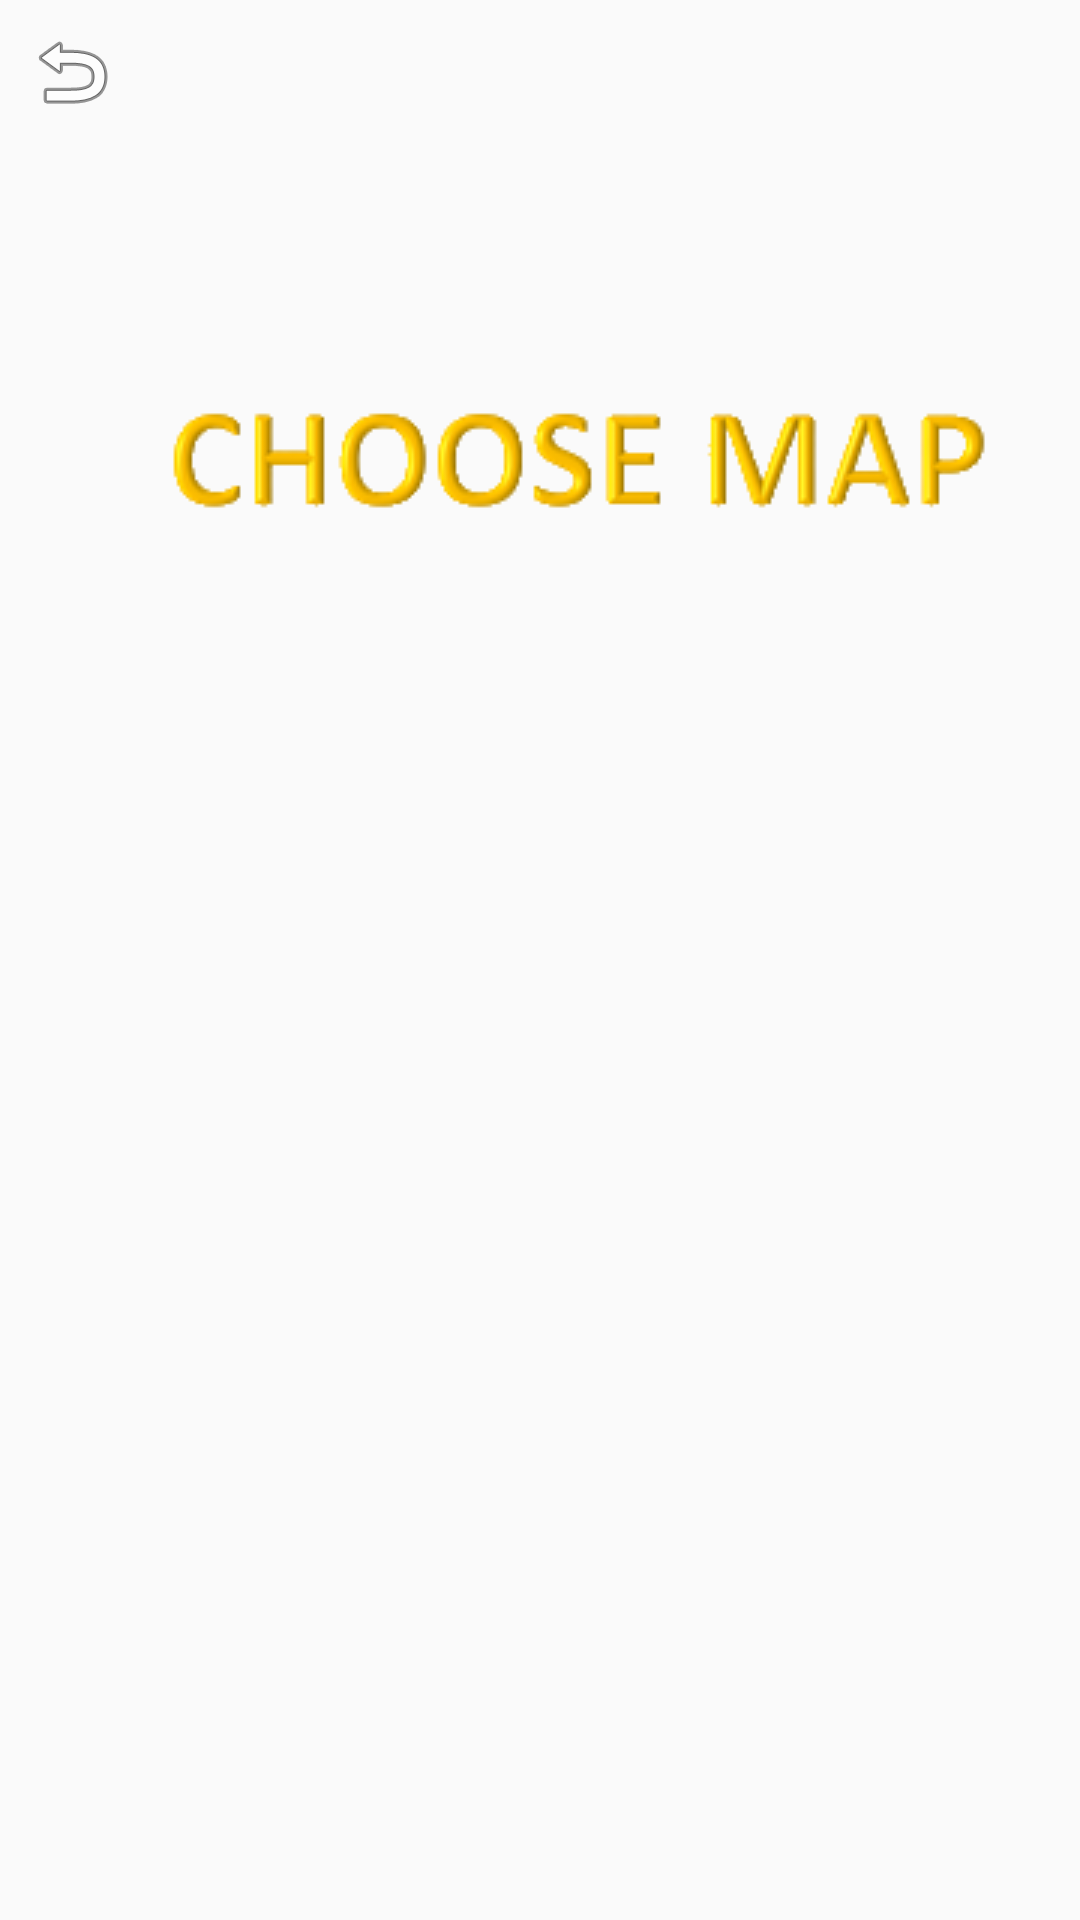

Screen size 1080w x 1920h. Icon name, then its box in pixels as (x1, y1, x2, y2):
revert: (39, 41, 108, 104)
